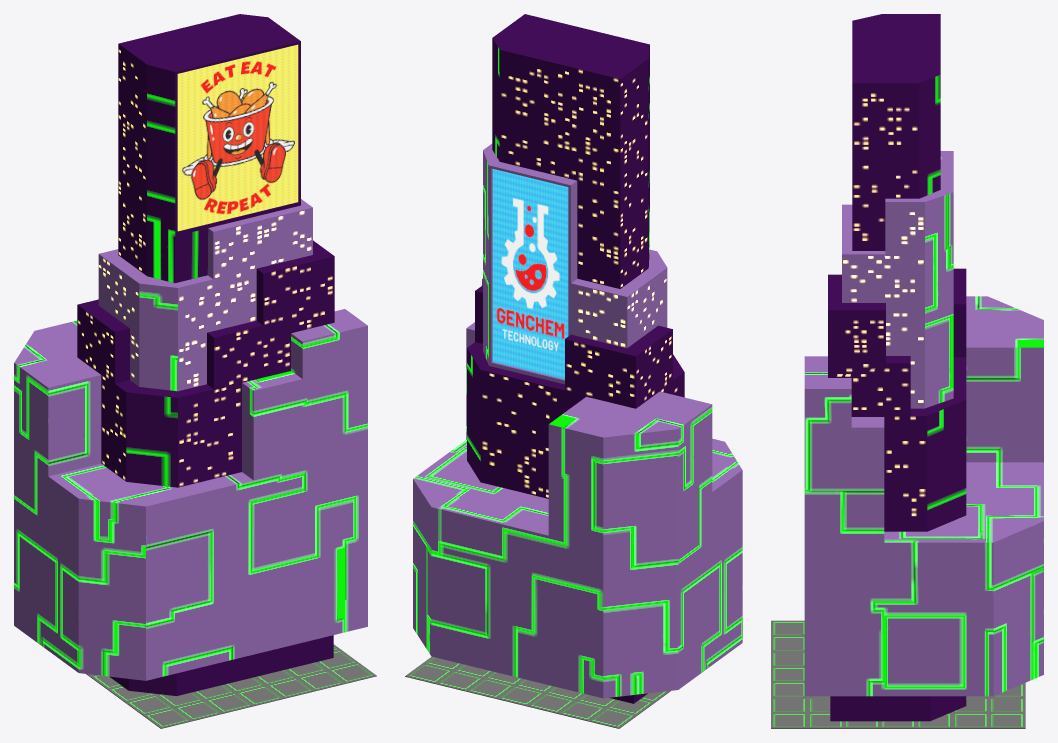
The model's file is Bina 14.fbx.
3 renders of one model, left to right at view 1: azimuth 30°, elevation 25°; view 2: azimuth 150°, elevation 25°; view 3: azimuth 270°, elevation 25°, orthographic. The views are drawn at different scales.
Parts seen in each view (by area): view 1: Mall_2, MallStand_2; view 2: Mall_2, MallStand_2; view 3: Mall_2, MallStand_2.
Part boxes in pixels (x1=…): Mall_2: x1=14, y1=14, x2=367, y2=695; MallStand_2: x1=86, y1=644, x2=376, y2=728; Mall_2: x1=413, y1=14, x2=742, y2=703; MallStand_2: x1=405, y1=638, x2=742, y2=728; Mall_2: x1=804, y1=14, x2=1043, y2=721; MallStand_2: x1=771, y1=620, x2=1025, y2=728.
Size of the model in its own units: 70.8 by 157 by 61.99.
3 materials, 3 textured.
